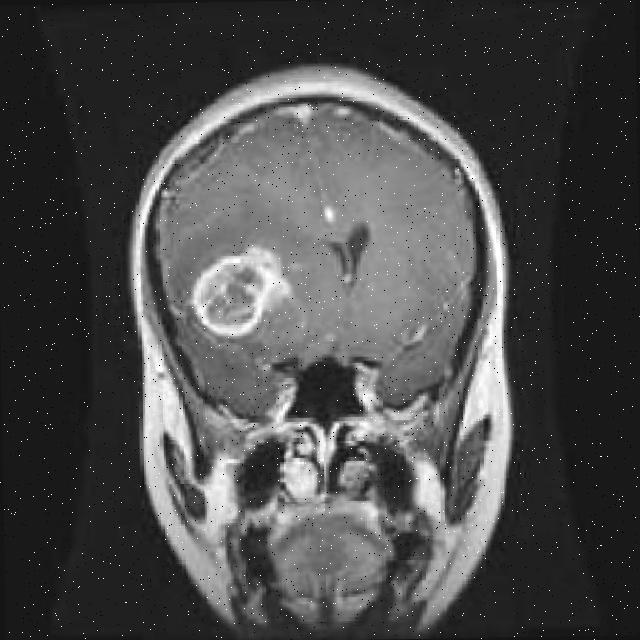MCI: (187, 250, 298, 359)
